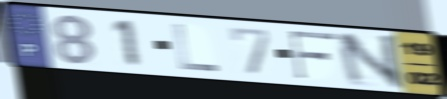1: (111, 19, 144, 68)
7: (226, 25, 273, 77)
8: (50, 13, 98, 66)
F: (288, 29, 339, 81)
L: (171, 22, 222, 74)
N: (334, 33, 408, 90)
